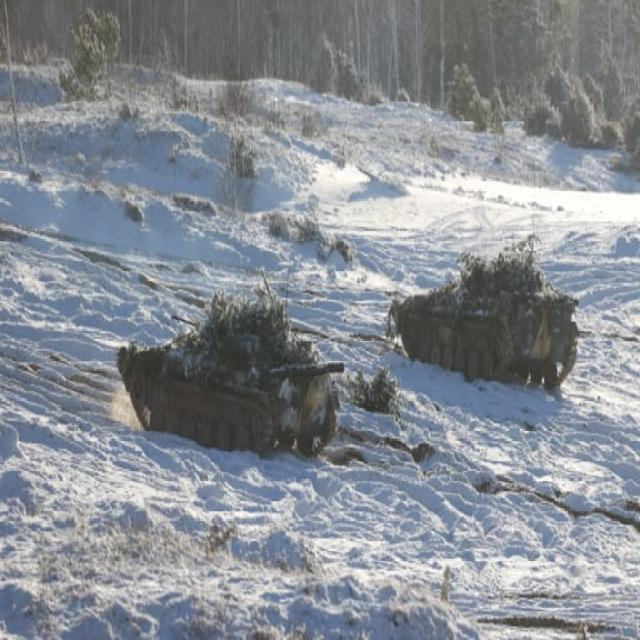APC-IFV: (114, 274, 340, 463), (386, 238, 581, 393)
